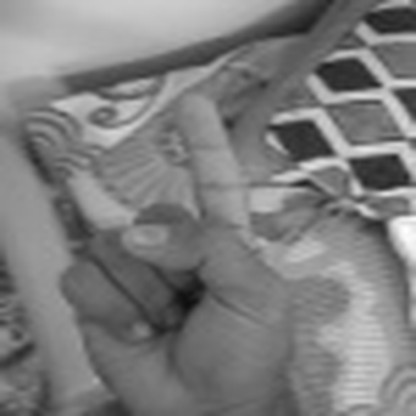d: (54, 84, 271, 416)
